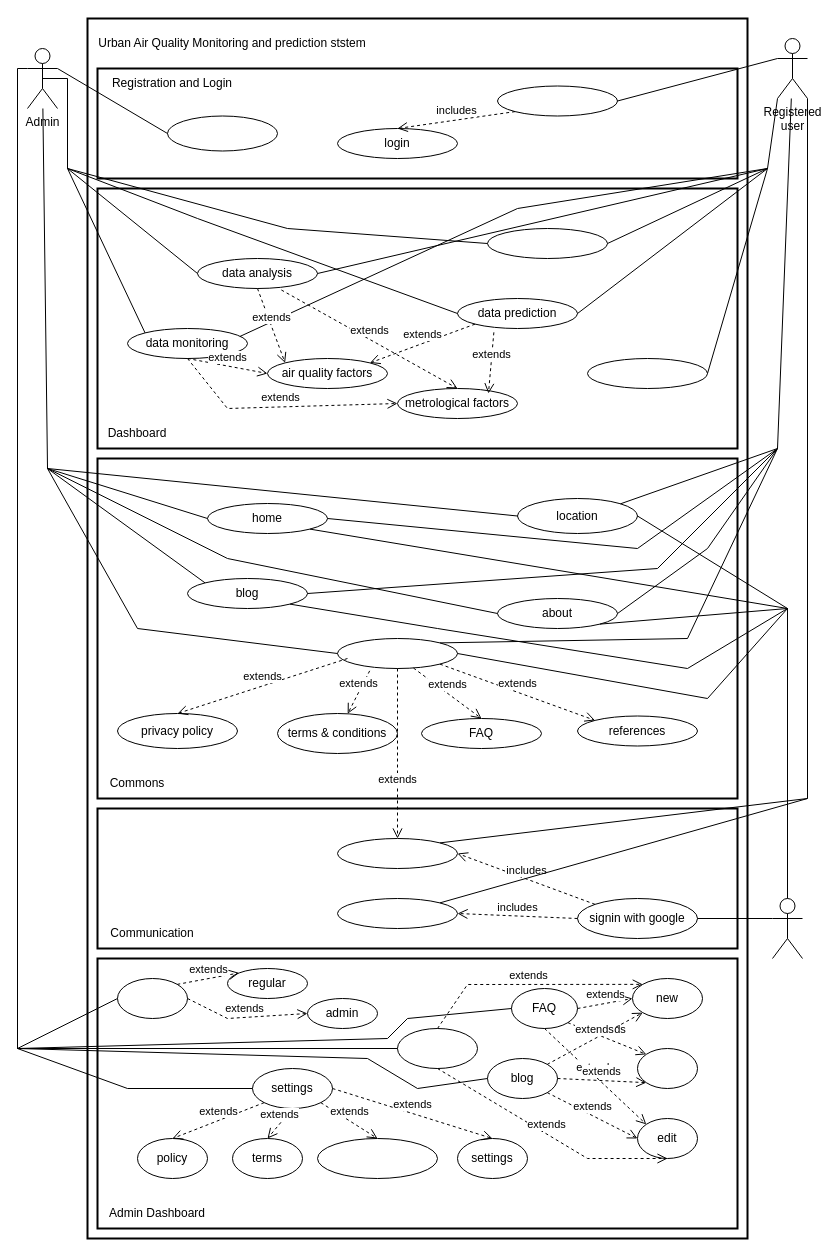
Image size: 839x1256. Some labels were removed from this diagram. The centre of each missing label's shape, as x and y in pixels:
[admin privacy]: pixel 377 1158
admin login: pixel 222 133
contact: pixel 397 913
feedback: pixel 397 853
forecast: pixel 437 1048
graphs: pixel 547 243
list: pixel 667 1068
pages: pixel 397 653
request register: pixel 557 100
User: pixel 787 928
user settings: pixel 647 373
users: pixel 152 998
